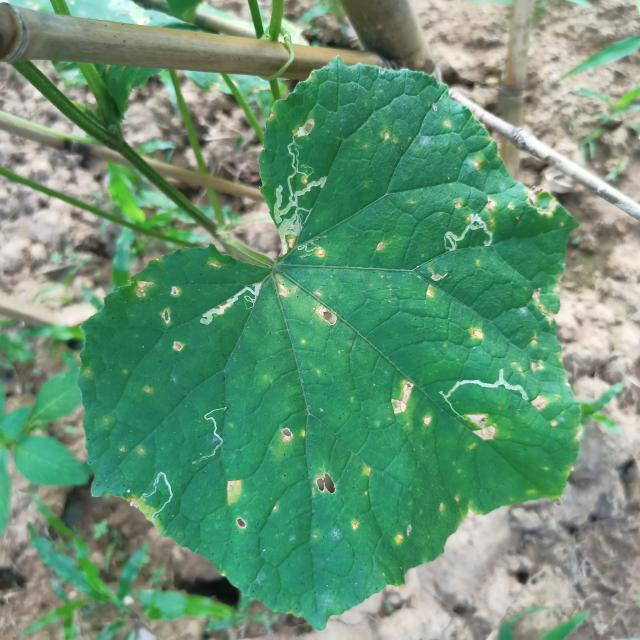disease_cucumber: (308, 459, 410, 554), (278, 247, 341, 329), (510, 289, 564, 381), (134, 278, 186, 358), (451, 184, 565, 220), (386, 378, 438, 432), (530, 385, 578, 434), (220, 474, 254, 538), (463, 409, 503, 454), (274, 418, 312, 455), (418, 266, 448, 303)
